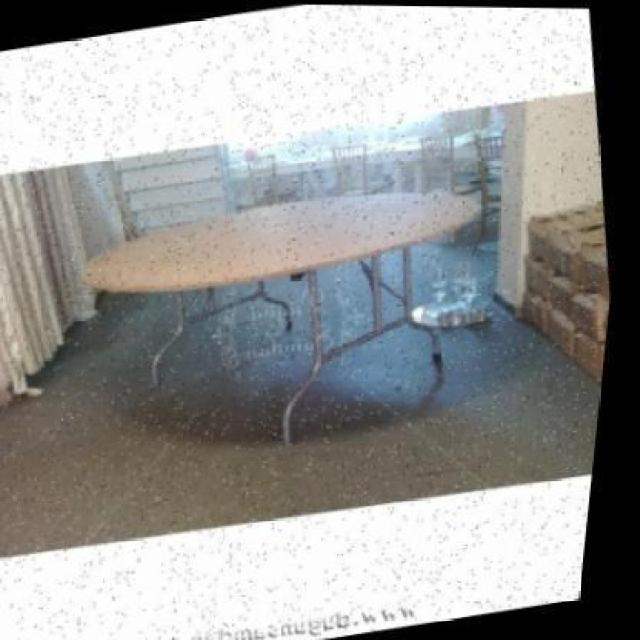tables: (79, 188, 482, 444)
